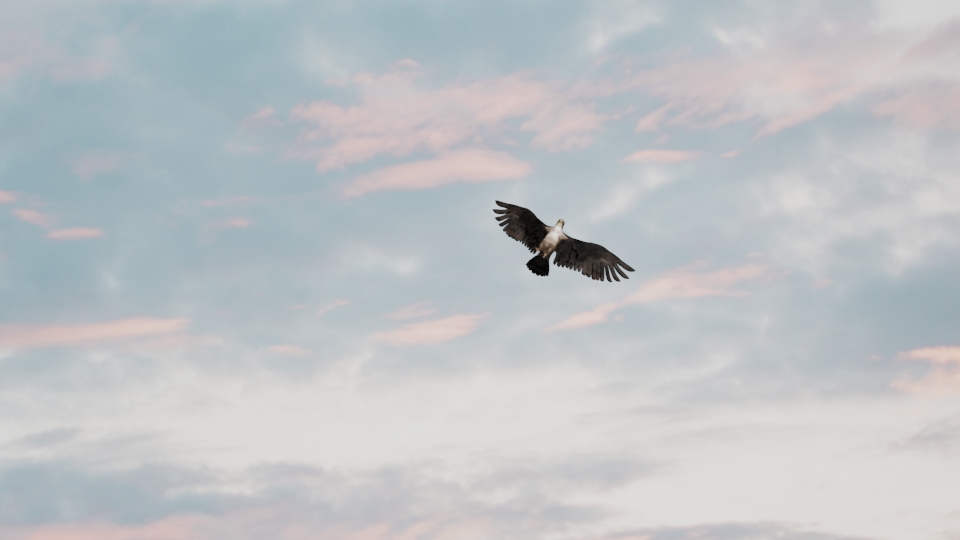bird: (488, 196, 634, 282)
